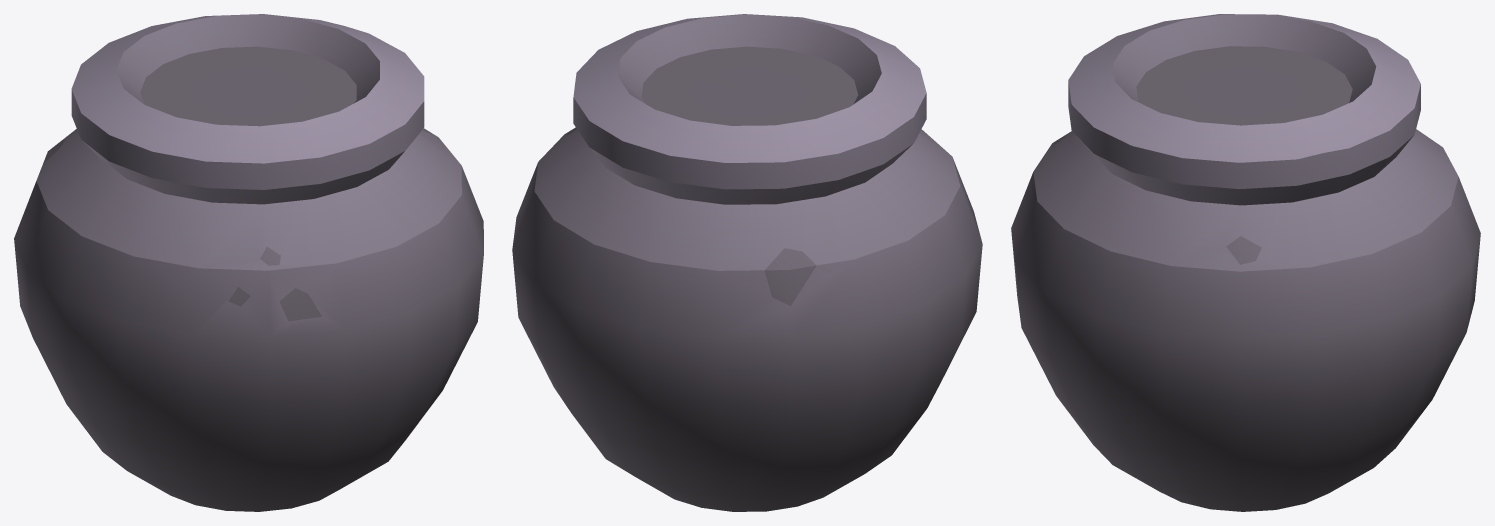
File: pot_2.glb
The picture shows the model from 3 angles, left to right: view 1: azimuth 30°, elevation 25°; view 2: azimuth 150°, elevation 25°; view 3: azimuth 270°, elevation 25°; orthographic projection.
Visible parts, largest first — view 1: pot_2; view 2: pot_2; view 3: pot_2.
Part boxes in pixels (x1,y1,x2,y2): pot_2: [14, 14, 483, 511]; pot_2: [512, 14, 982, 511]; pot_2: [1011, 14, 1480, 511].
Bounding box in the file's own units: 0.8689 × 0.8156 × 0.87.
1 material, 1 textured.
